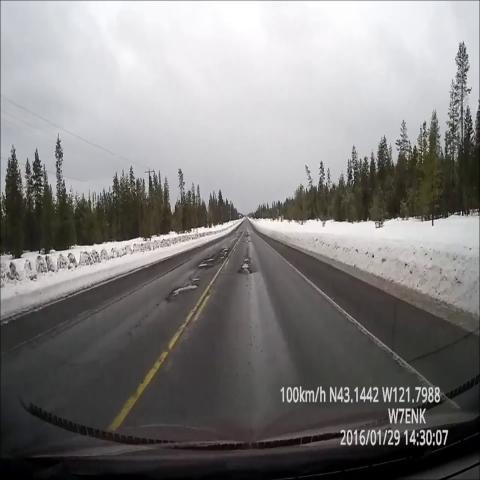pothole: (158, 269, 211, 318), (191, 231, 240, 279), (233, 244, 259, 279), (241, 226, 254, 248)
